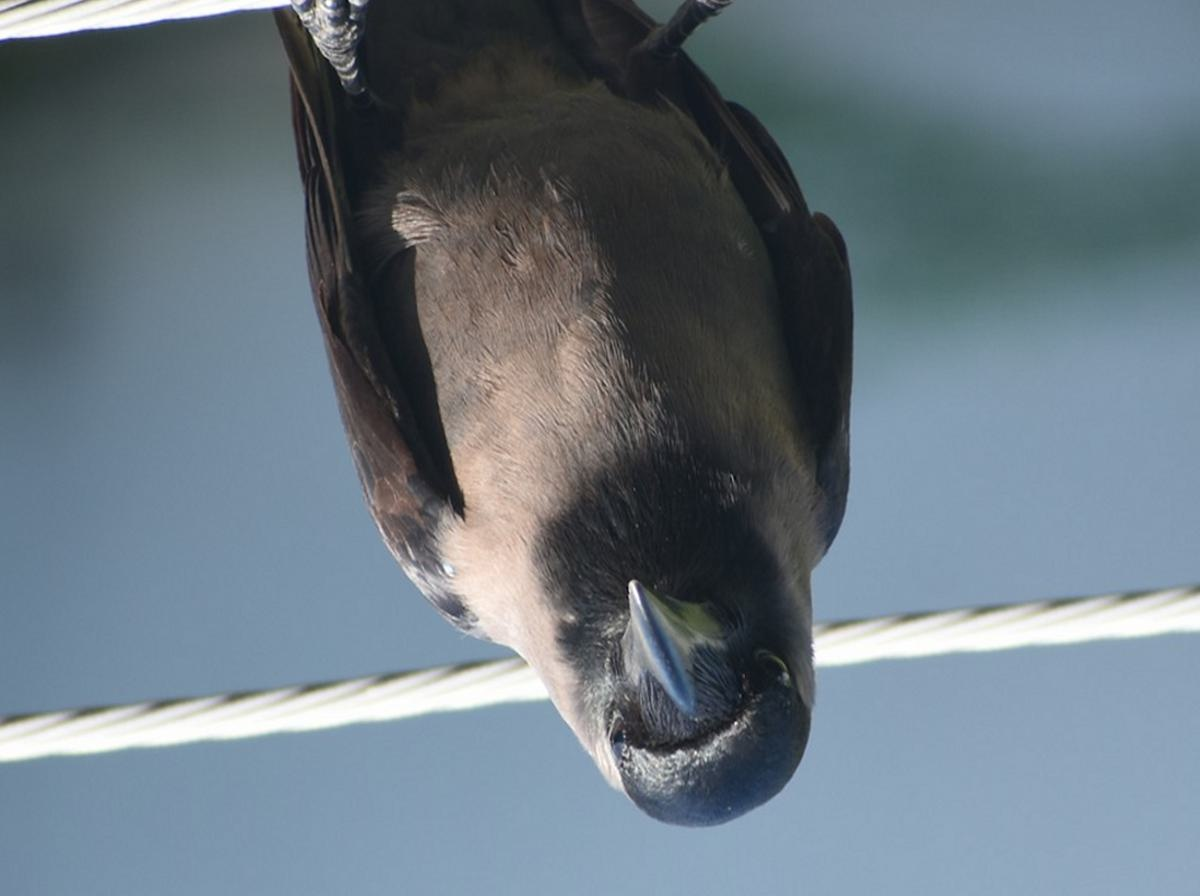crow: (267, 1, 863, 850)
